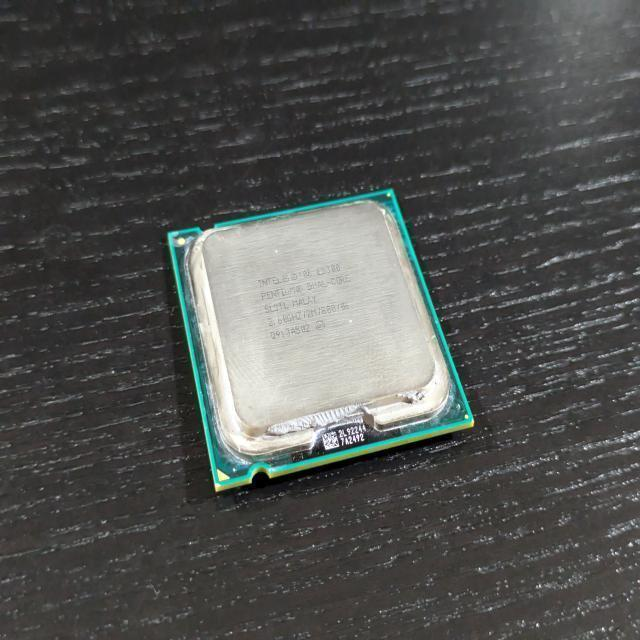CPU: (167, 187, 476, 494)
